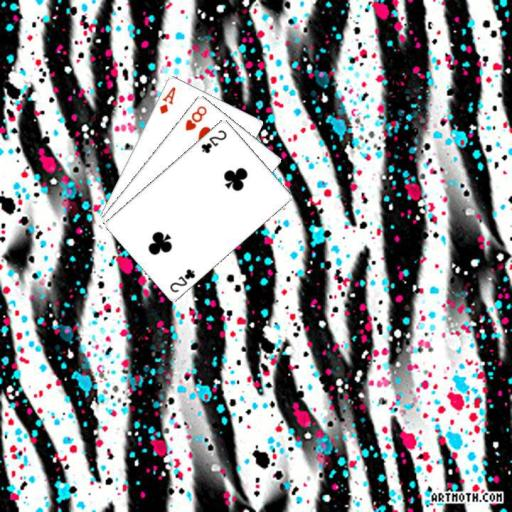2C: (166, 265, 197, 294), (198, 127, 228, 155)
8H: (182, 103, 208, 132)
AD: (156, 83, 177, 115)
